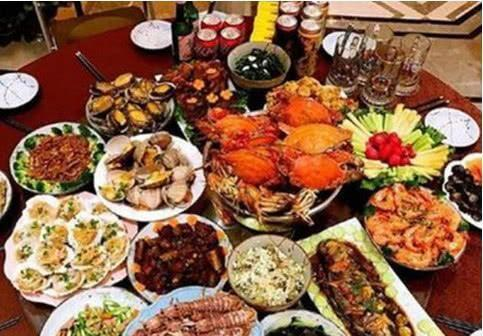food: (191, 102, 366, 225), (2, 182, 130, 299), (307, 227, 423, 333), (89, 126, 207, 219), (363, 175, 467, 271), (125, 210, 233, 297), (79, 64, 180, 142), (11, 115, 102, 196), (222, 231, 312, 312), (343, 93, 438, 165), (267, 78, 360, 129), (48, 285, 144, 334)
